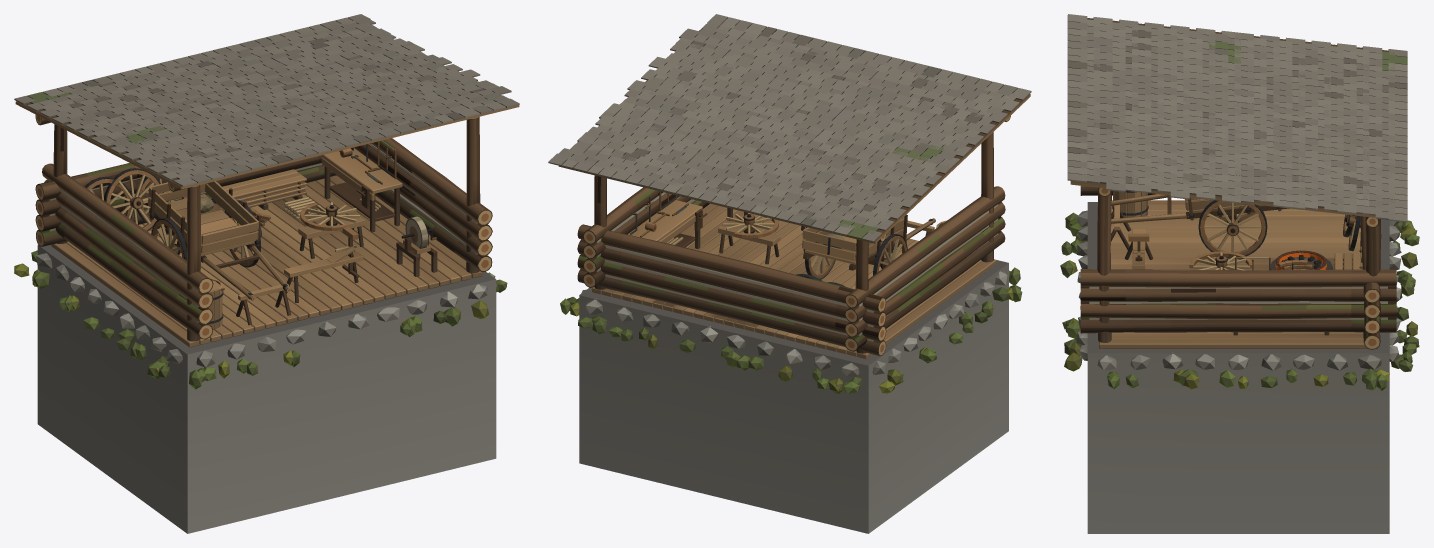
Rendered from arabaci.glb.
3 views of the same model, side by side, from view 1: azimuth 30°, elevation 25°; view 2: azimuth 150°, elevation 25°; view 3: azimuth 270°, elevation 25° (orthographic). The views are drawn at different scales.
Visible parts, largest first — view 1: stone-plinth-001, shingle-001, shingle-002, plank-001, plank-cart-002, stone-found-002, log-011, stone-found-004, plank-bench-004, log-012, log-005, log-008 (+19 smaller); view 2: stone-plinth-001, shingle-002, shingle-001, plank-001, log-010, stone-found-003, log-004, log-007, log-001, log-011, stone-found-004, plank-cart-002 (+12 smaller); view 3: stone-plinth-001, shingle-001, shingle-002, plank-001, log-012, log-006, log-009, stone-found-005, log-003, stone-found-003, stone-found-002, dark-wheel-002 (+8 smaller).
Part boxes in pixels (<box>): stone-plinth-001: <box>37,244,496,533</box>; shingle-001: <box>97,57,519,189</box>; shingle-002: <box>14,14,441,146</box>; plank-001: <box>51,175,482,347</box>; plank-cart-002: <box>148,181,290,300</box>; stone-found-002: <box>189,282,488,389</box>; log-011: <box>42,163,213,293</box>; stone-found-004: <box>14,253,182,378</box>; plank-bench-004: <box>321,148,402,232</box>; log-012: <box>370,138,492,225</box>; log-005: <box>55,208,213,324</box>; log-008: <box>44,179,213,308</box>; stone-plinth-001: <box>579,238,1008,533</box>; shingle-002: <box>548,86,953,243</box>; shingle-001: <box>627,14,1031,169</box>; plank-001: <box>592,203,996,359</box>; log-010: <box>577,224,886,312</box>; stone-found-003: <box>578,298,861,393</box>; log-004: <box>577,254,886,341</box>; log-007: <box>577,239,886,327</box>; log-001: <box>577,269,886,356</box>; log-011: <box>845,186,1005,308</box>; stone-found-004: <box>872,271,1022,393</box>; plank-cart-002: <box>802,214,935,270</box>; stone-plinth-001: <box>1087,202,1389,533</box>; shingle-001: <box>1067,14,1240,203</box>; shingle-002: <box>1234,32,1407,222</box>; plank-001: <box>1099,200,1377,348</box>; log-012: <box>1080,269,1396,288</box>; log-006: <box>1080,301,1396,319</box>; log-009: <box>1080,286,1396,303</box>; stone-found-005: <box>1097,352,1389,390</box>; log-003: <box>1080,317,1396,333</box>; stone-found-003: <box>1387,220,1419,371</box>; stone-found-002: <box>1060,210,1089,371</box>; dark-wheel-002: <box>1198,200,1267,258</box>.
Bounding box in the file's own units: 7.38 × 7 × 6.32.
